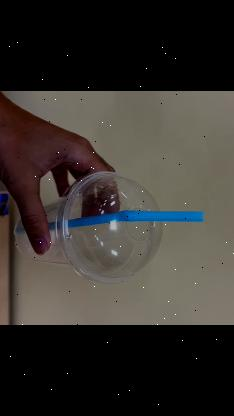Others: (13, 173, 161, 285)
